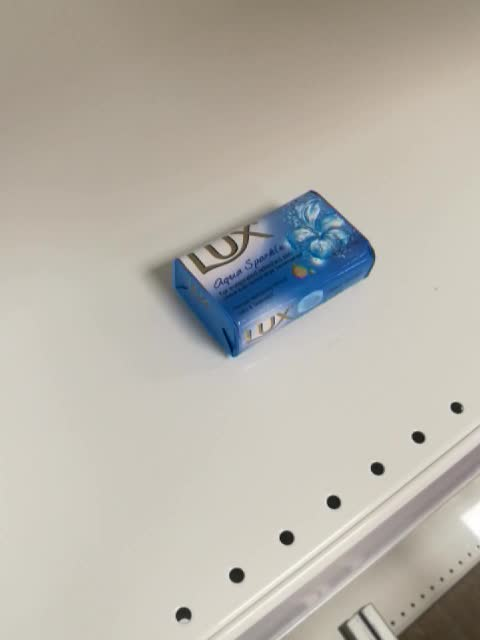soap: (171, 188, 377, 359)
